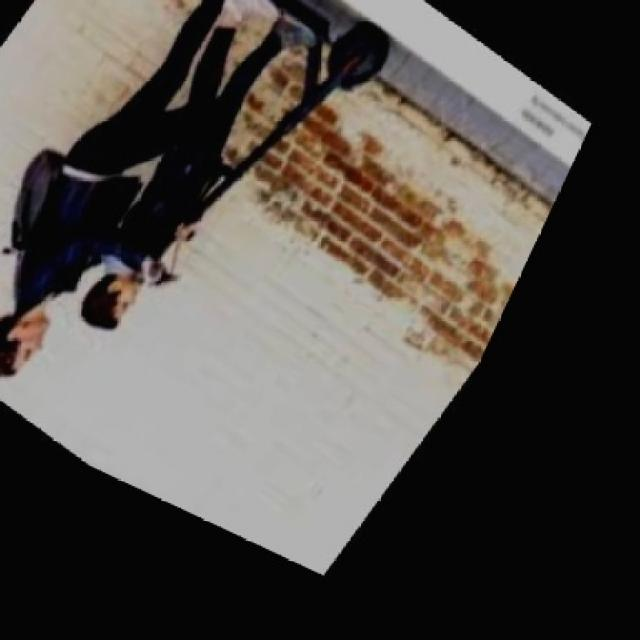bare_head: (79, 275, 134, 330), (0, 309, 45, 376)
human: (0, 0, 269, 373), (84, 17, 315, 332)
kickboard: (199, 0, 384, 94)
